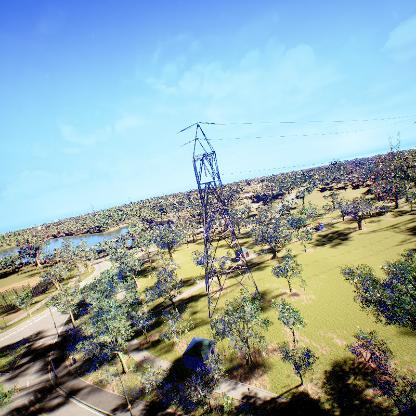tower: (177, 117, 264, 307)
